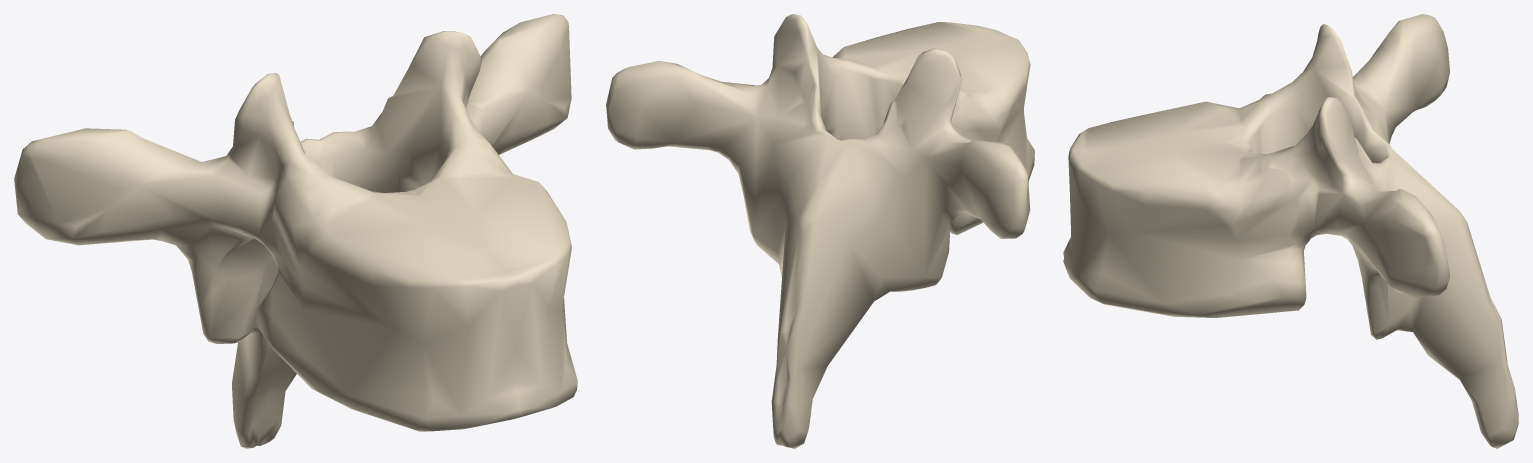
Rendered from vertebra-t6.glb.
The picture shows the model from 3 angles, left to right: view 1: azimuth 30°, elevation 25°; view 2: azimuth 150°, elevation 25°; view 3: azimuth 270°, elevation 25°; orthographic projection. The views are drawn at different scales.
Visible parts, largest first — view 1: Vertebra T6; view 2: Vertebra T6; view 3: Vertebra T6.
Part boxes in pixels (x1,y1,x2,y2): Vertebra T6: (14, 14, 577, 448); Vertebra T6: (606, 14, 1034, 448); Vertebra T6: (1063, 14, 1518, 448).
Bounding box in the file's own units: 0.0759 × 0.0621 × 0.0668.
